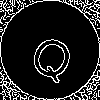Q: (25, 25, 82, 86)
